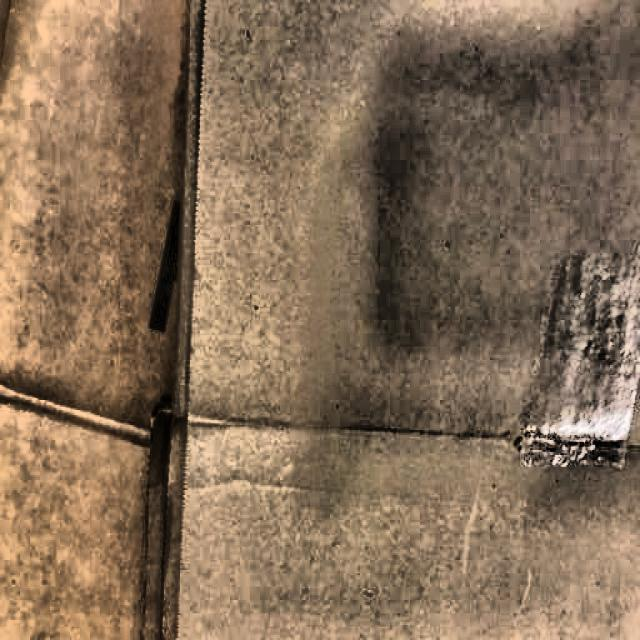cardboard: (82, 53, 599, 587)
